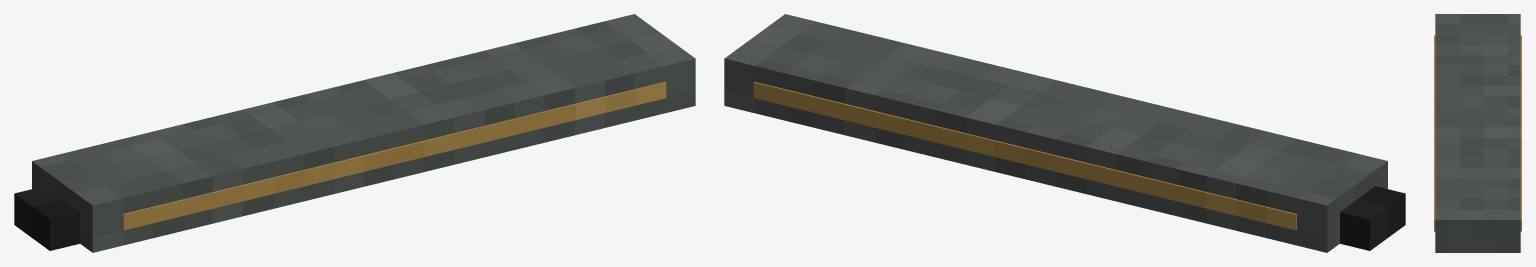
File: KemchugK3_Magazine.glb
3 renders of one model, left to right at view 1: azimuth 30°, elevation 25°; view 2: azimuth 150°, elevation 25°; view 3: azimuth 270°, elevation 25°, orthographic. The views are drawn at different scales.
Parts seen in each view (by area): view 1: Magazine body, Magazine rounds L, Magazine feed lip; view 2: Magazine body, Magazine rounds R, Magazine feed lip; view 3: Magazine body, Magazine rounds L, Magazine rounds R.
Part boxes in pixels (x1,y1,x2,y2): Magazine body: [32, 14, 695, 252]; Magazine rounds L: [123, 81, 666, 230]; Magazine feed lip: [14, 186, 79, 250]; Magazine body: [724, 14, 1387, 252]; Magazine rounds R: [753, 81, 1296, 230]; Magazine feed lip: [1340, 186, 1405, 250]; Magazine body: [1435, 14, 1520, 252]; Magazine rounds L: [1434, 35, 1435, 231]; Magazine rounds R: [1520, 35, 1521, 231].
Size of the model in its own units: 0.2888 by 0.0206 by 0.0495.
Materials: 1 (1 with a texture image).
